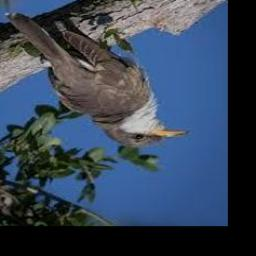Cuckoo: (5, 12, 190, 147)
